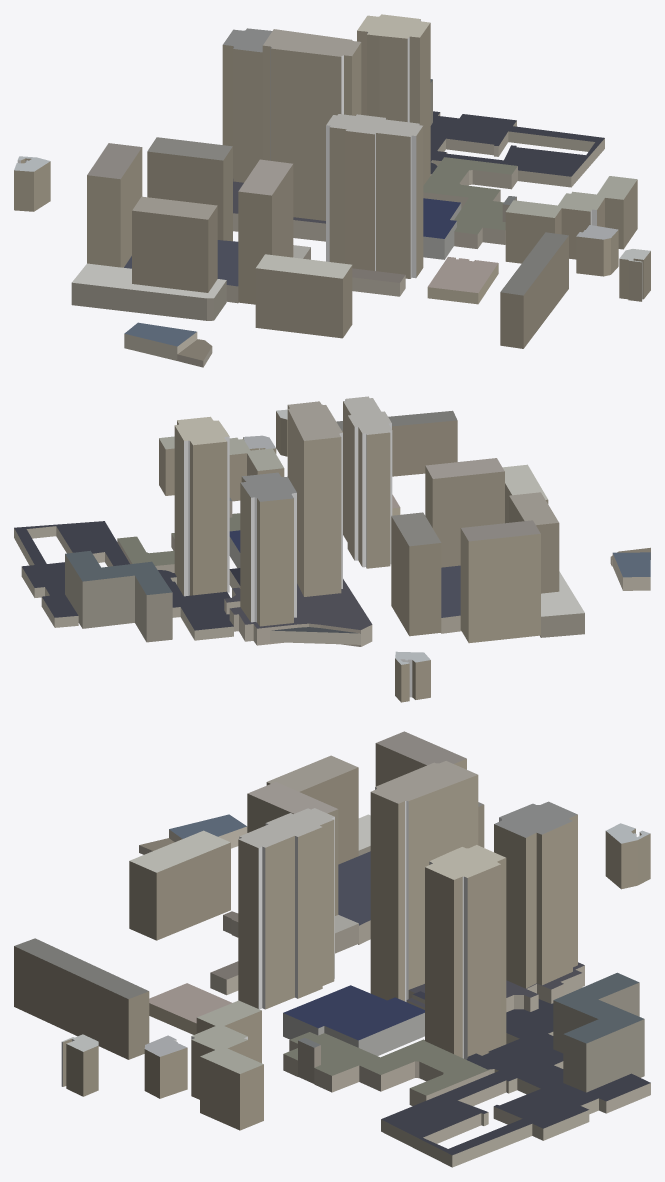
The picture shows the model from 3 angles, top to bottom: view 1: azimuth 30°, elevation 25°; view 2: azimuth 150°, elevation 25°; view 3: azimuth 270°, elevation 25°; orthographic projection. The views are drawn at different scales.
Parts seen in each view (by area): view 1: tuile; view 2: tuile; view 3: tuile.
Boxes of the visible parts, x1,y1,x2,y2 form: tuile: [14, 14, 650, 367]; tuile: [14, 396, 650, 702]; tuile: [14, 731, 650, 1167].
Size of the model in its own units: 330 by 103 by 276.
